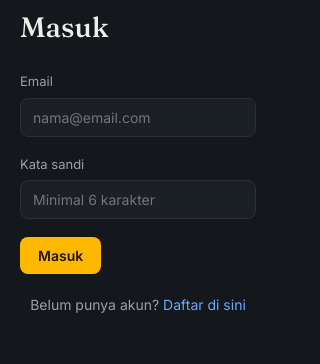
Test case: LoginPage › should display the API error message on failed login
This screenshot has width=320, height=364.
In the field labelled "Email": coordinates (138, 117) [20,98,256,136], type "wrong@example.com"
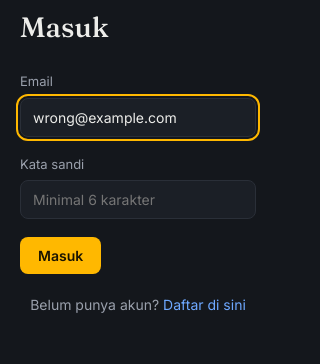
In the password field labelled "Kata sandi": coordinates (138, 200) [20,180,256,219], type "wrongpass"
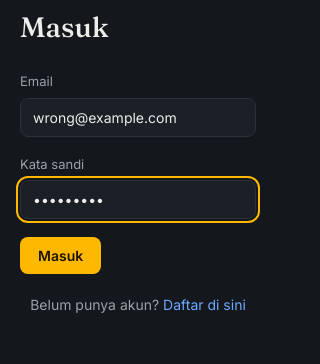
Click the button "Masuk": coordinates (61, 256) [20,237,101,274]
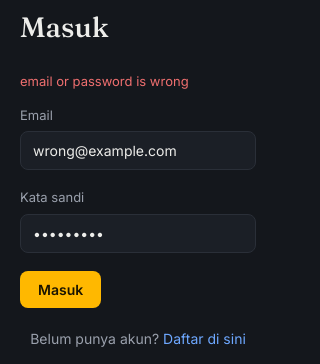
Check: the text "email or password is wrong" is shown, box [20,73,189,89]
